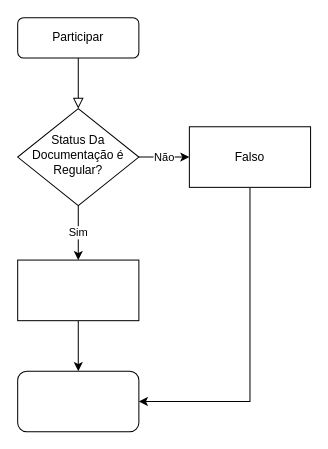
The diagram is 328 pixels wide and 449 high, and some of its shapes have lost their labels. Here are the shapes that lost their labels. From the top down, the centre of each, then its label:
At (78,290): "Verdadeiro".
At (78,401): "Fim".
